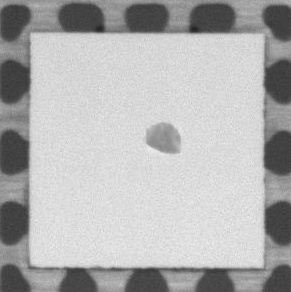DIE_INK: (144, 120, 185, 157)
